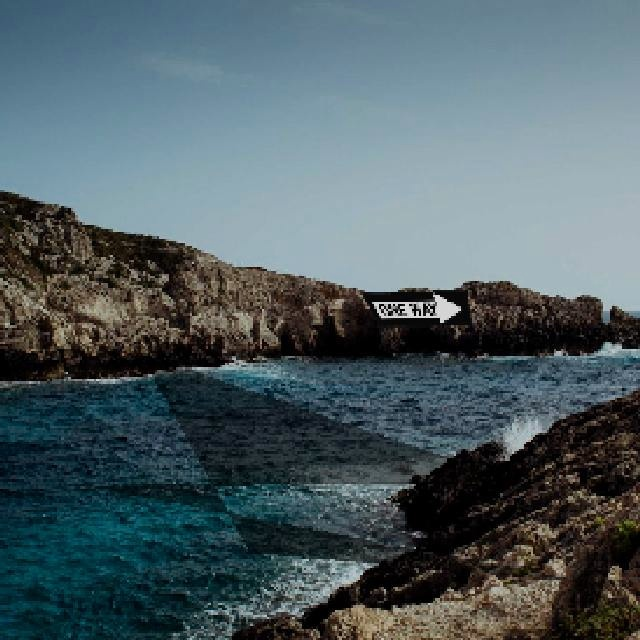ONE_WAY_ right: (359, 288, 470, 324)
